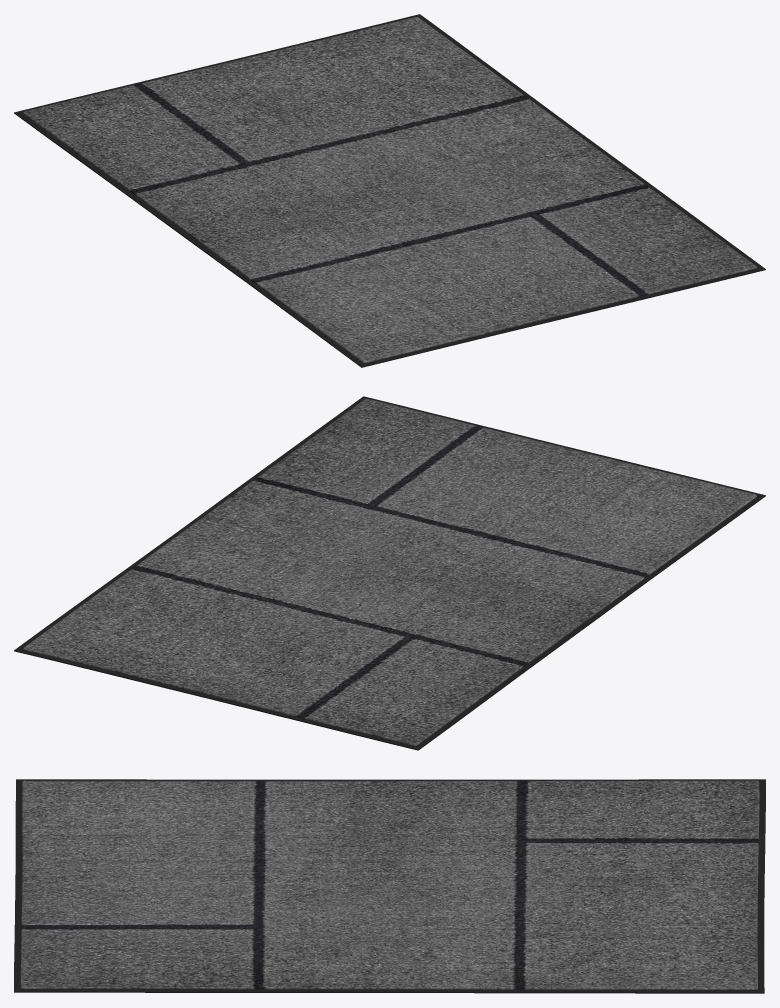
File: 06 - KÖGE Door mat - greyblack 102x152 cm.glb
3 views of the same model, one above another, from view 1: azimuth 30°, elevation 25°; view 2: azimuth 150°, elevation 25°; view 3: azimuth 270°, elevation 25° (orthographic). The views are drawn at different scales.
Visible parts, largest first — view 1: Mesh_0.001; view 2: Mesh_0.001; view 3: Mesh_0.001.
Boxes of the visible parts, <box> form: Mesh_0.001: <box>14,14,765,367</box>; Mesh_0.001: <box>14,396,765,750</box>; Mesh_0.001: <box>14,779,765,993</box>.
Size of the model in its own units: 1.02 by 0.00594 by 1.52.
1 material, 1 textured.
